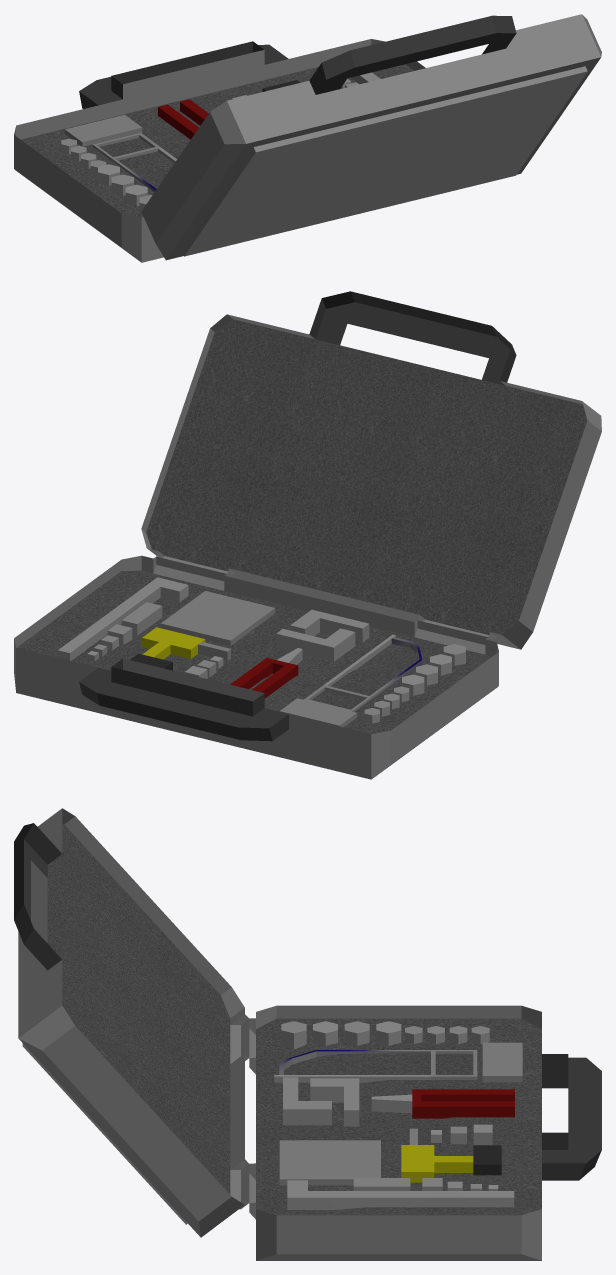
Rendered from OpenedCJGCK.fbx.
3 views of the same model, one above another, from view 1: azimuth 30°, elevation 25°; view 2: azimuth 150°, elevation 25°; view 3: azimuth 270°, elevation 25° (orthographic). The views are drawn at different scales.
Visible parts, largest first — view 1: Cube; view 2: Cube; view 3: Cube.
Part boxes in pixels (box(x1,y1,x2,y2)): Cube: box(14, 14, 601, 262); Cube: box(14, 291, 601, 779); Cube: box(14, 808, 601, 1260).
Size of the model in its own units: 0.3364 by 0.2271 by 0.3988.
